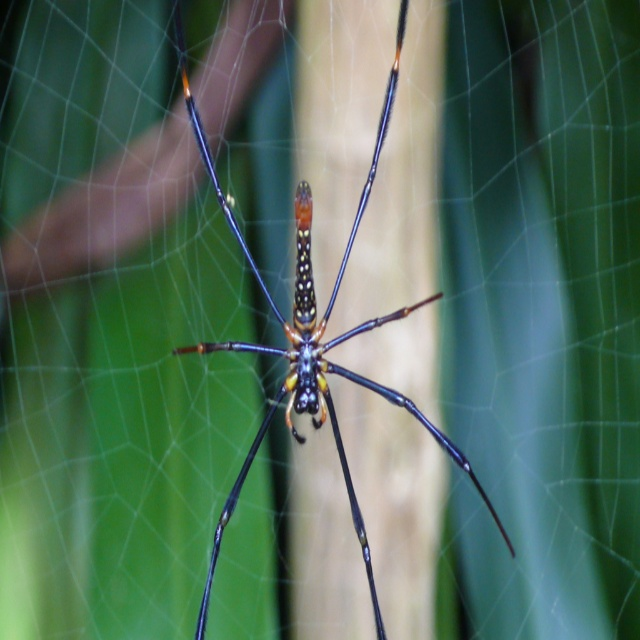Spider: (172, 1, 515, 639)
